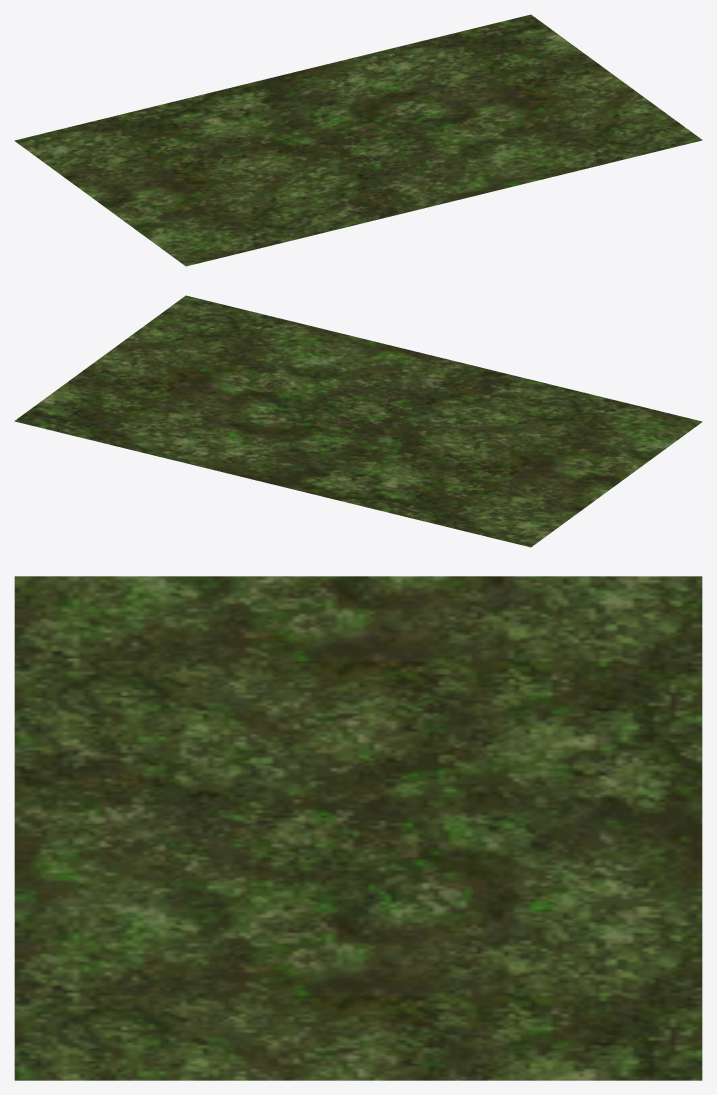
Rendered from OVERHILL_A_01_LINE165.fbx.
3 renders of one model, top to bottom at view 1: azimuth 30°, elevation 25°; view 2: azimuth 150°, elevation 25°; view 3: azimuth 270°, elevation 25°, orthographic. The views are drawn at different scales.
Visible parts, largest first — view 1: OVERHILL_A_01_LINE165; view 2: OVERHILL_A_01_LINE165; view 3: OVERHILL_A_01_LINE165.
Part boxes in pixels (x1=…): OVERHILL_A_01_LINE165: x1=14, y1=14, x2=702, y2=266; OVERHILL_A_01_LINE165: x1=14, y1=295, x2=702, y2=547; OVERHILL_A_01_LINE165: x1=14, y1=576, x2=702, y2=1080.
Bounding box in the file's own units: 58927 × 0.00553 × 33935.
1 material, 1 textured.
